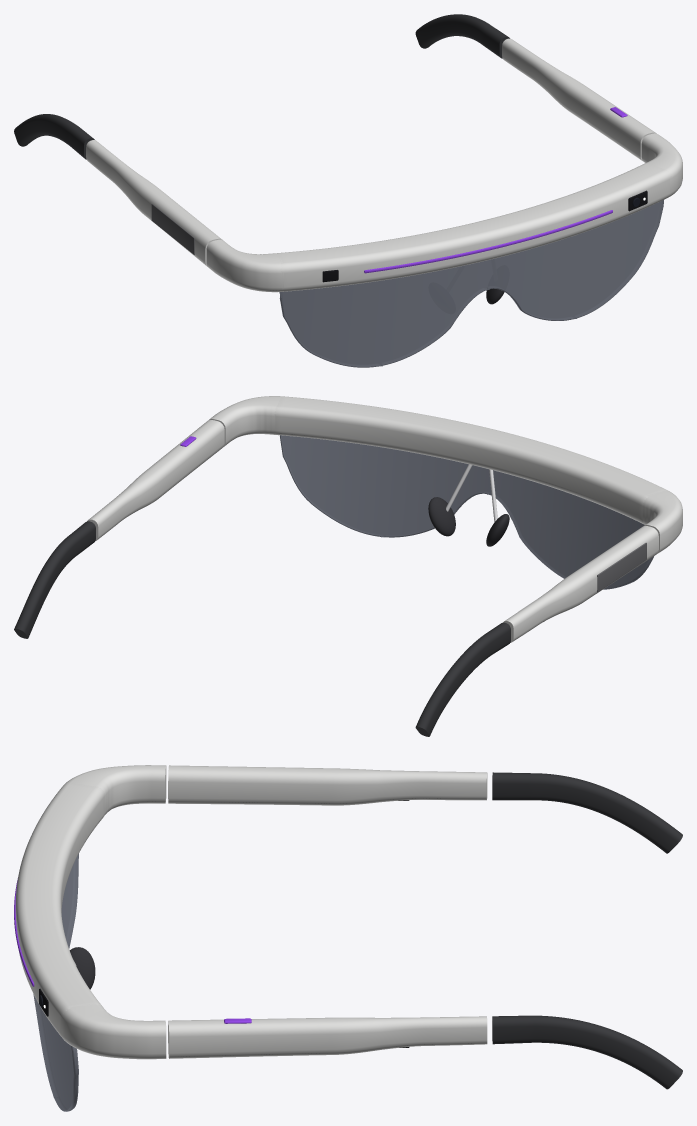
The model's file is ar_glasses.glb.
The picture shows the model from 3 angles, top to bottom: view 1: azimuth 30°, elevation 25°; view 2: azimuth 150°, elevation 25°; view 3: azimuth 270°, elevation 25°; orthographic projection. The views are drawn at different scales.
Visible parts, largest first — view 1: Visor_Lens, Frame_Brow, Temple_Arm_L, Temple_Arm_R, Temple_Hinge_R, Temple_Tip_L, Temple_Tip_R, Temple_Hinge_L, Brow_Accent, Touchpad_R; view 2: Visor_Lens, Frame_Brow, Temple_Arm_L, Temple_Arm_R, Temple_Tip_R, Temple_Tip_L, Temple_Hinge_L, Temple_Hinge_R, Touchpad_R, NosePad_L; view 3: Frame_Brow, Temple_Arm_R, Temple_Arm_L, Temple_Tip_R, Temple_Tip_L, Temple_Hinge_L, Visor_Lens, Temple_Hinge_R, NosePad_R.
Boxes of the visible parts, x1,y1,x2,y2 form: Visor_Lens: (279,200,663,367); Frame_Brow: (276,163,671,291); Temple_Arm_L: (502,38,656,160); Temple_Arm_R: (86,140,222,266); Temple_Hinge_R: (206,239,283,292); Temple_Tip_L: (415,14,509,58); Temple_Tip_R: (14,114,94,159); Temple_Hinge_L: (641,133,682,196); Brow_Accent: (364,210,612,273); Touchpad_R: (151,203,194,254); Visor_Lens: (280,435,653,589); Frame_Brow: (274,396,667,524); Temple_Arm_L: (87,420,224,540); Temple_Arm_R: (503,526,658,642); Temple_Tip_R: (415,622,510,736); Temple_Tip_L: (14,521,95,638); Temple_Hinge_L: (208,396,282,446); Temple_Hinge_R: (642,490,682,553); Touchpad_R: (597,542,646,592); NosePad_L: (428,497,455,536); Frame_Brow: (15,782,104,1039); Temple_Arm_R: (168,765,487,805); Temple_Arm_L: (168,1016,487,1058); Temple_Tip_R: (492,772,682,853); Temple_Tip_L: (492,1015,682,1089); Temple_Hinge_L: (61,1003,166,1059); Visor_Lens: (33,854,78,1111); Temple_Hinge_R: (65,765,166,815); NosePad_R: (69,947,95,989).
Size of the model in its own units: 0.1598 by 0.0412 by 0.1693.
